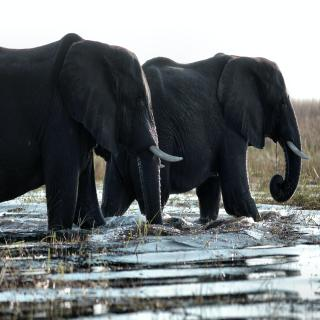Elephant: (2, 40, 185, 235), (107, 51, 310, 223)
